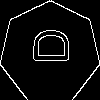D: (25, 27, 69, 64)
